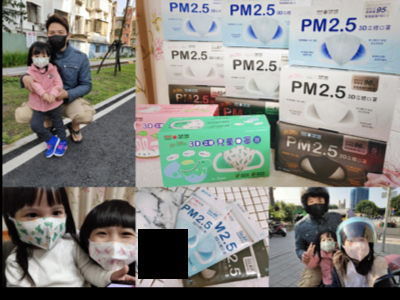with_mask: (13, 204, 67, 250), (86, 226, 136, 272), (342, 238, 371, 262), (47, 28, 67, 50), (306, 197, 327, 217), (31, 53, 49, 69), (319, 236, 335, 253)
